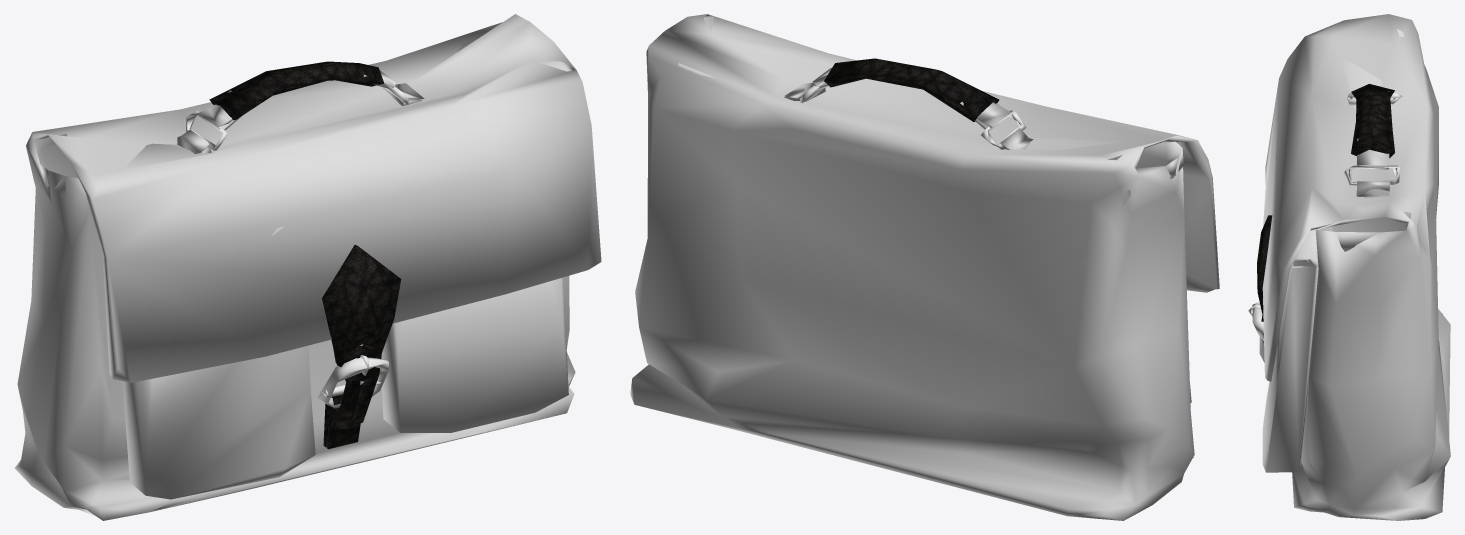
Rendered from WorkBag.fbx.
3 views of the same model, side by side, from view 1: azimuth 30°, elevation 25°; view 2: azimuth 150°, elevation 25°; view 3: azimuth 270°, elevation 25° (orthographic). The views are drawn at different scales.
Visible parts, largest first — view 1: Suitcase; view 2: Suitcase; view 3: Suitcase.
Part boxes in pixels (x1=…): Suitcase: x1=14, y1=14, x2=601, y2=520; Suitcase: x1=630, y1=14, x2=1219, y2=520; Suitcase: x1=1248, y1=14, x2=1450, y2=520.
Size of the model in its own units: 75.28 by 50.04 by 29.38.
